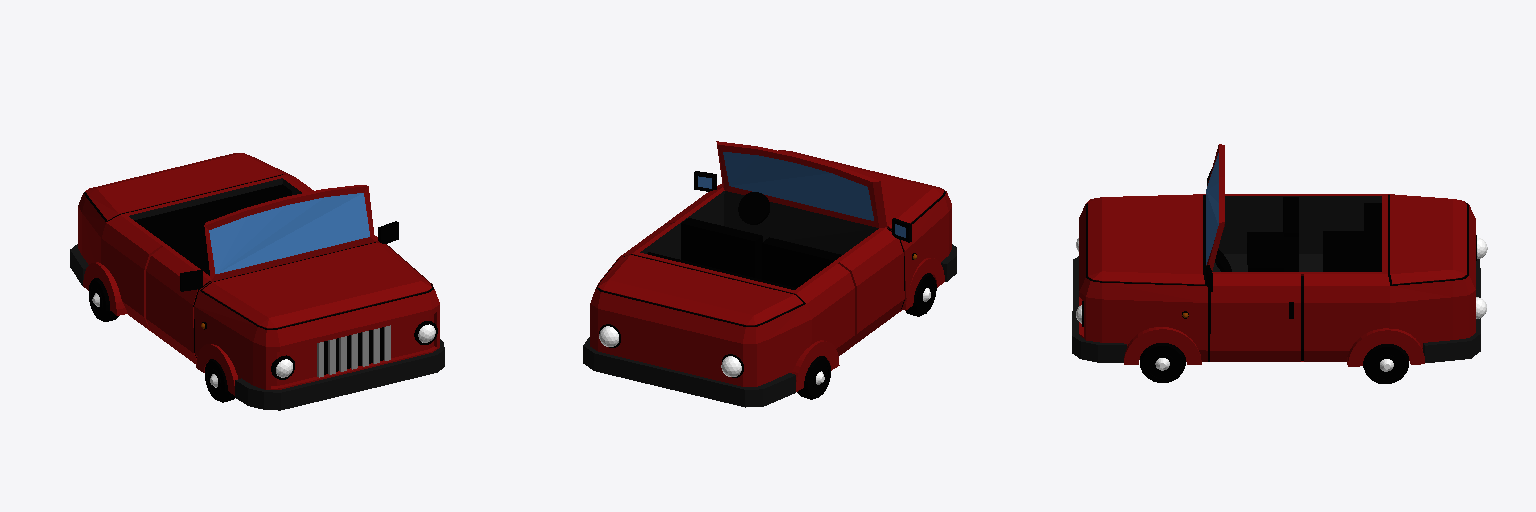
File: Convertible_1380.obj
3 renders of one model, left to right at view 1: azimuth 30°, elevation 25°; view 2: azimuth 150°, elevation 25°; view 3: azimuth 270°, elevation 25°, orthographic.
Parts seen in each view (by area): view 1: ChamferBox001; view 2: ChamferBox001; view 3: ChamferBox001.
Part boxes in pixels (x1,y1,x2,y2): ChamferBox001: (70, 153, 444, 410); ChamferBox001: (583, 141, 956, 407); ChamferBox001: (1072, 144, 1487, 383).
Size of the model in its own units: 40.28 by 27.69 by 66.22.